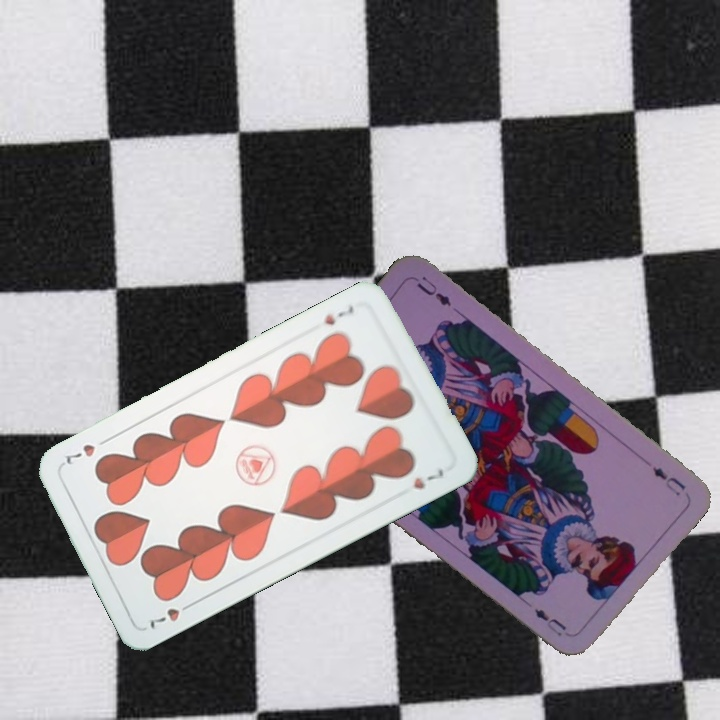EU: (648, 462, 689, 499)
H7: (143, 597, 198, 632), (320, 301, 357, 328)
